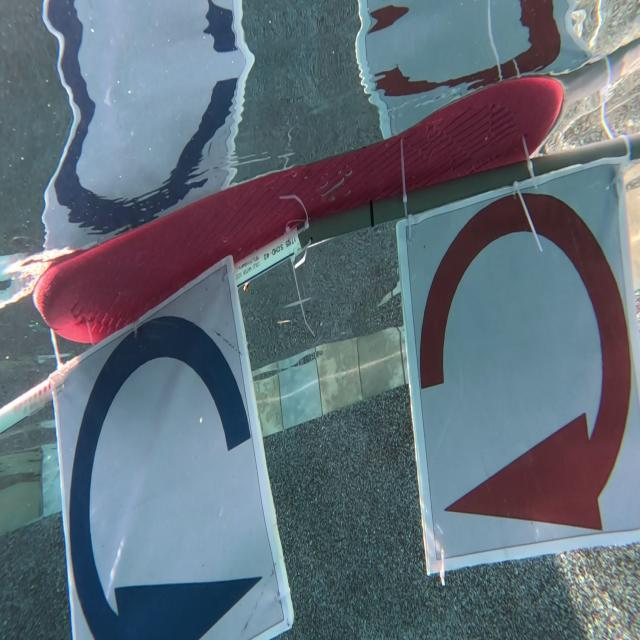blue_side: (63, 310, 273, 640)
red_side: (402, 184, 640, 557)
